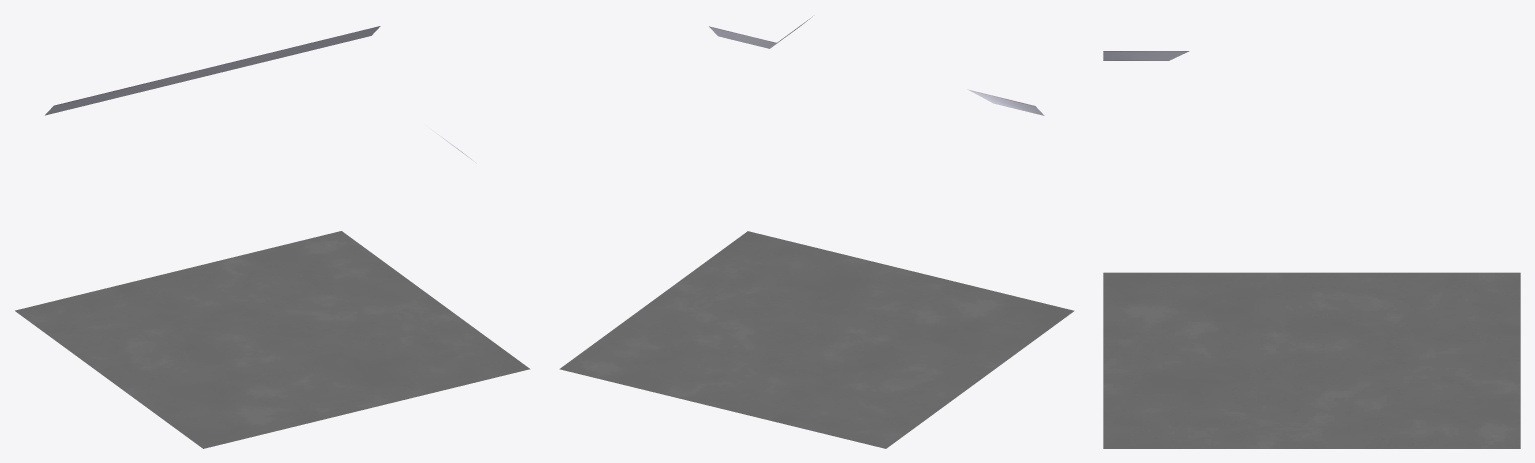
File: Room_4_T_LowCeiling.glb
The picture shows the model from 3 angles, left to right: view 1: azimuth 30°, elevation 25°; view 2: azimuth 150°, elevation 25°; view 3: azimuth 270°, elevation 25°; orthographic projection. The views are drawn at different scales.
Parts seen in each view (by area): view 1: Room_4_T_LowCeiling; view 2: Room_4_T_LowCeiling; view 3: Room_4_T_LowCeiling.
Boxes of the visible parts, left/top/right/bottom form: Room_4_T_LowCeiling: left=15, top=26, right=530, bottom=448; Room_4_T_LowCeiling: left=559, top=16, right=1074, bottom=448; Room_4_T_LowCeiling: left=1103, top=51, right=1520, bottom=448.
Size of the model in its own units: 6 by 4.1 by 6.
Materials: 2 (2 with a texture image).
